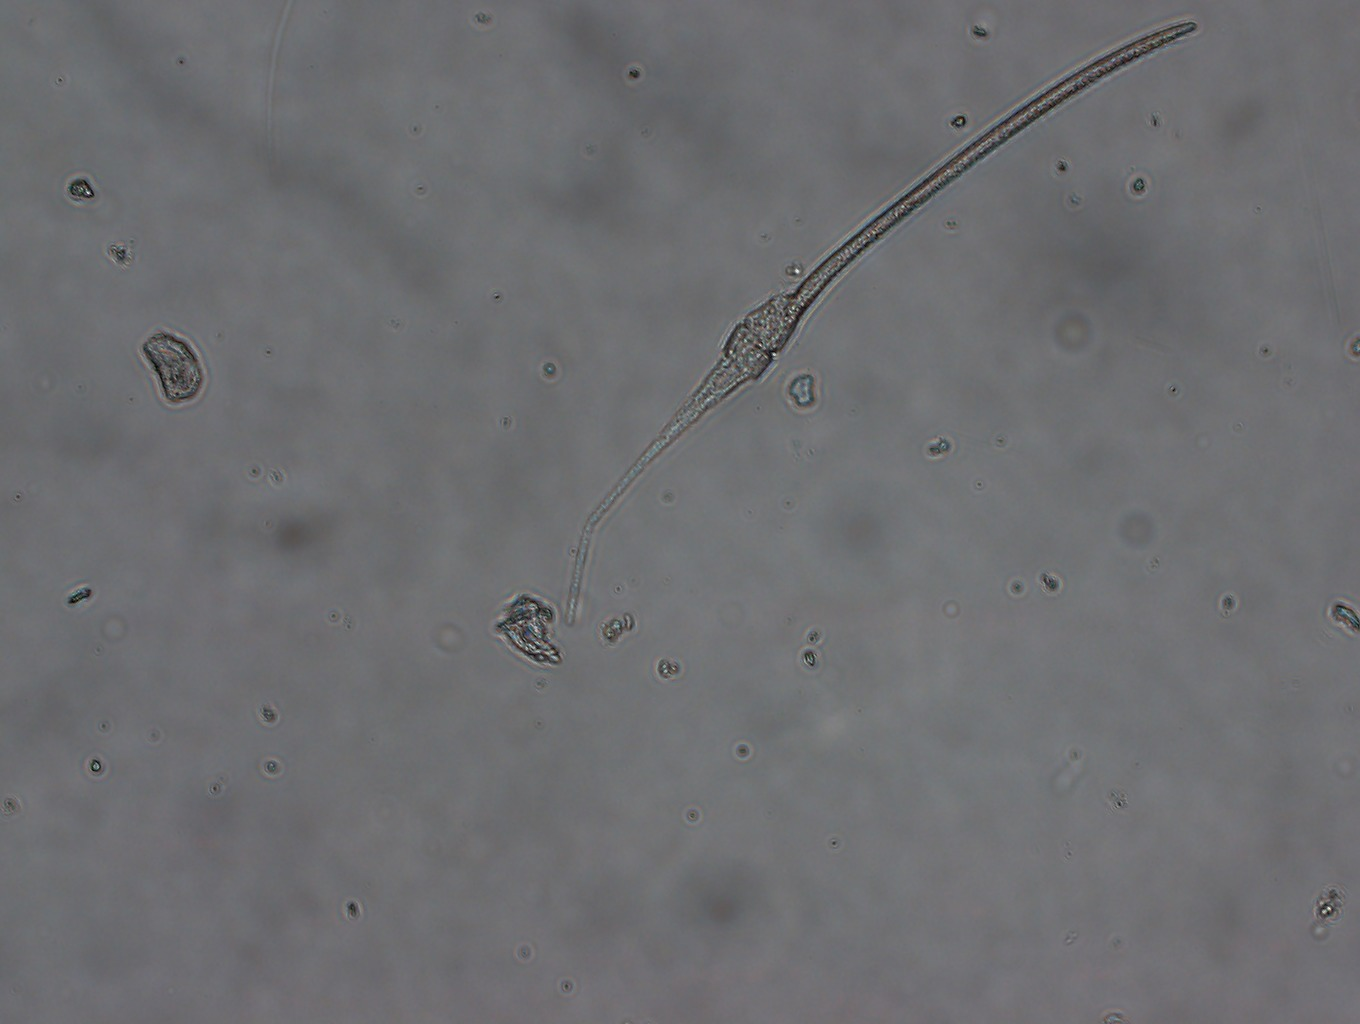ceratium fusus: (552, 8, 1208, 632)
